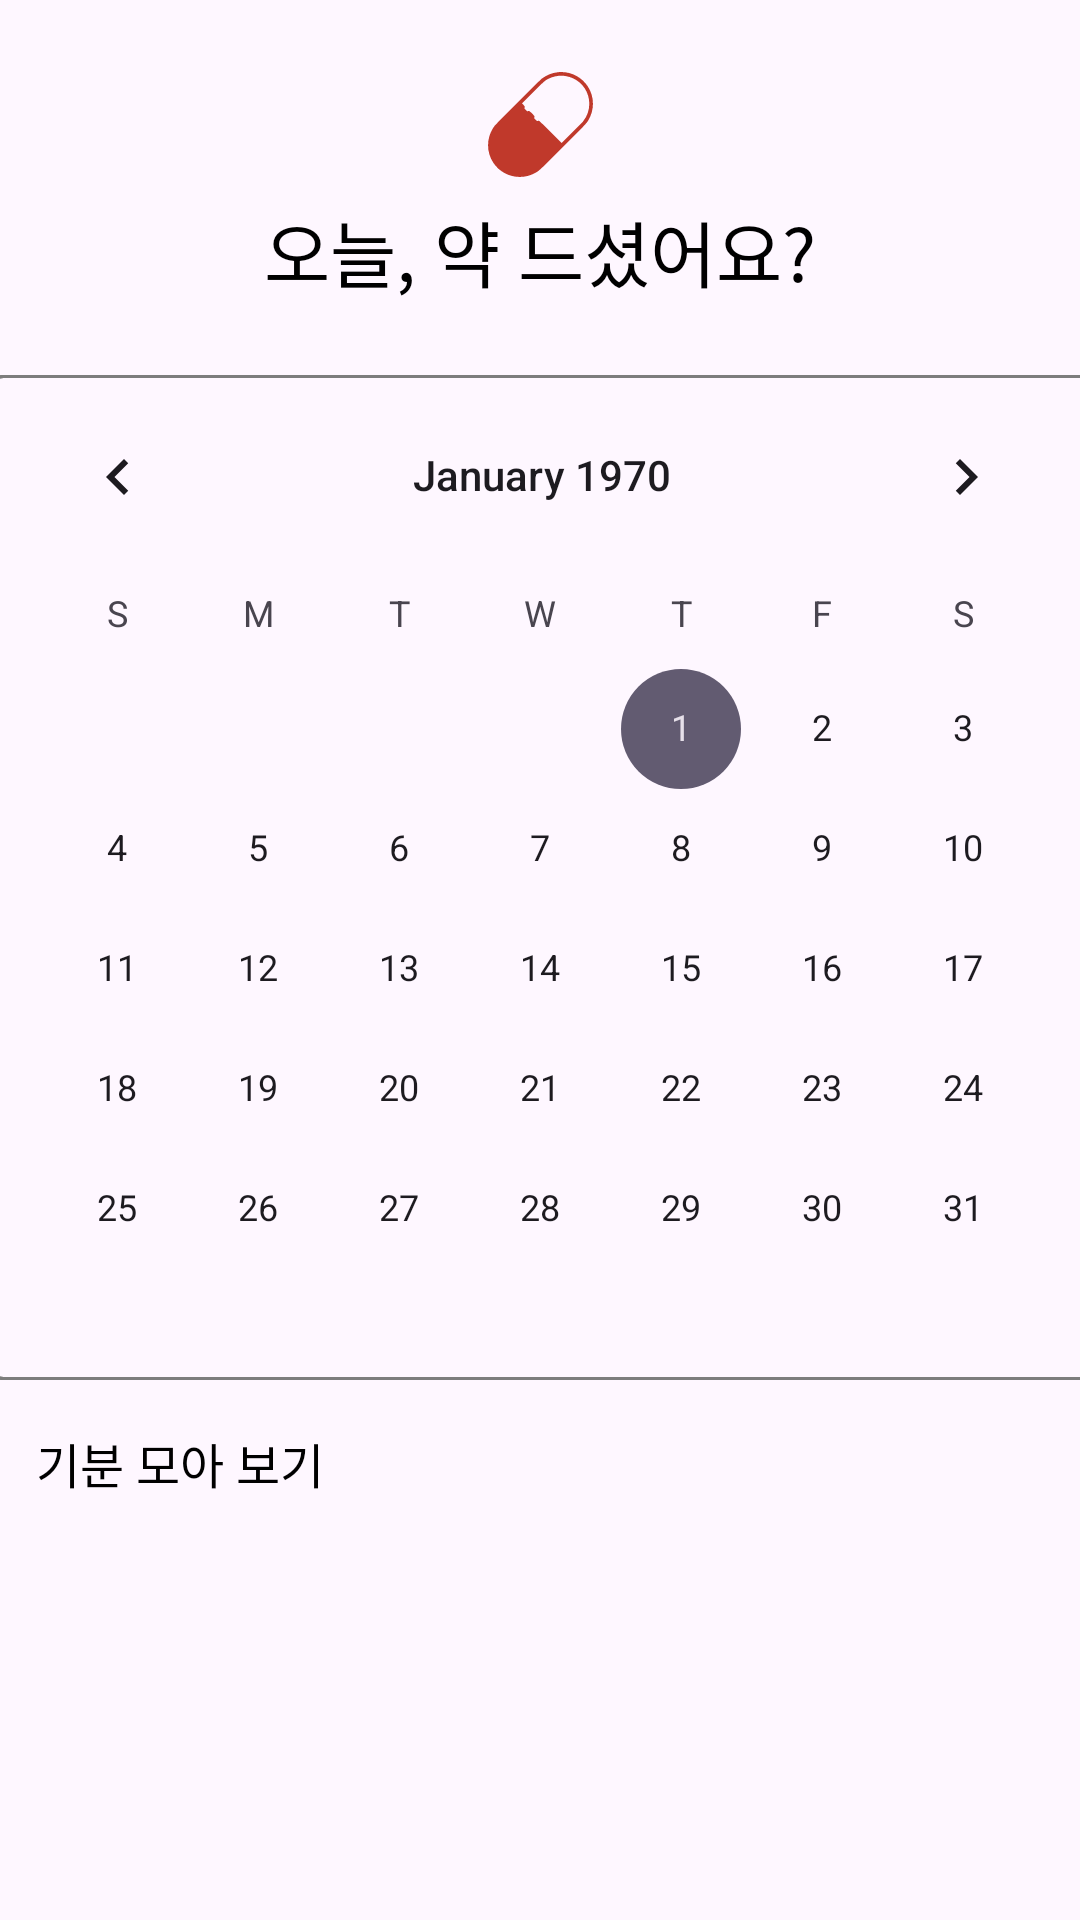

Named icons in this screenshot (1080 × 1920) and their bounding boxes, (x1, y1, x2, y2):
capsules: (488, 72, 593, 177)
